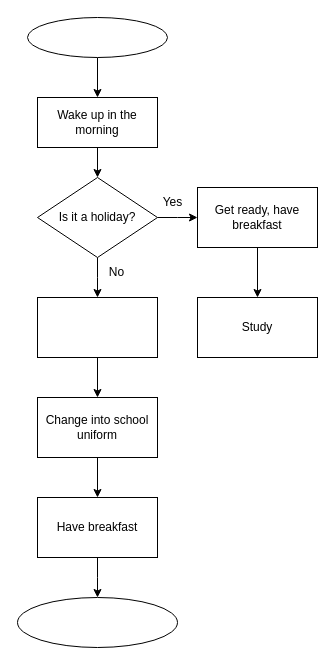
Some shapes in this 335 by 665 pixel diagram are drawn without their labels. Each missing label, with the centre of its shape:
"Get ready, have a bath" belongs at point (97, 327).
"Reach school" belongs at point (97, 622).
"Start" belongs at point (97, 37).
